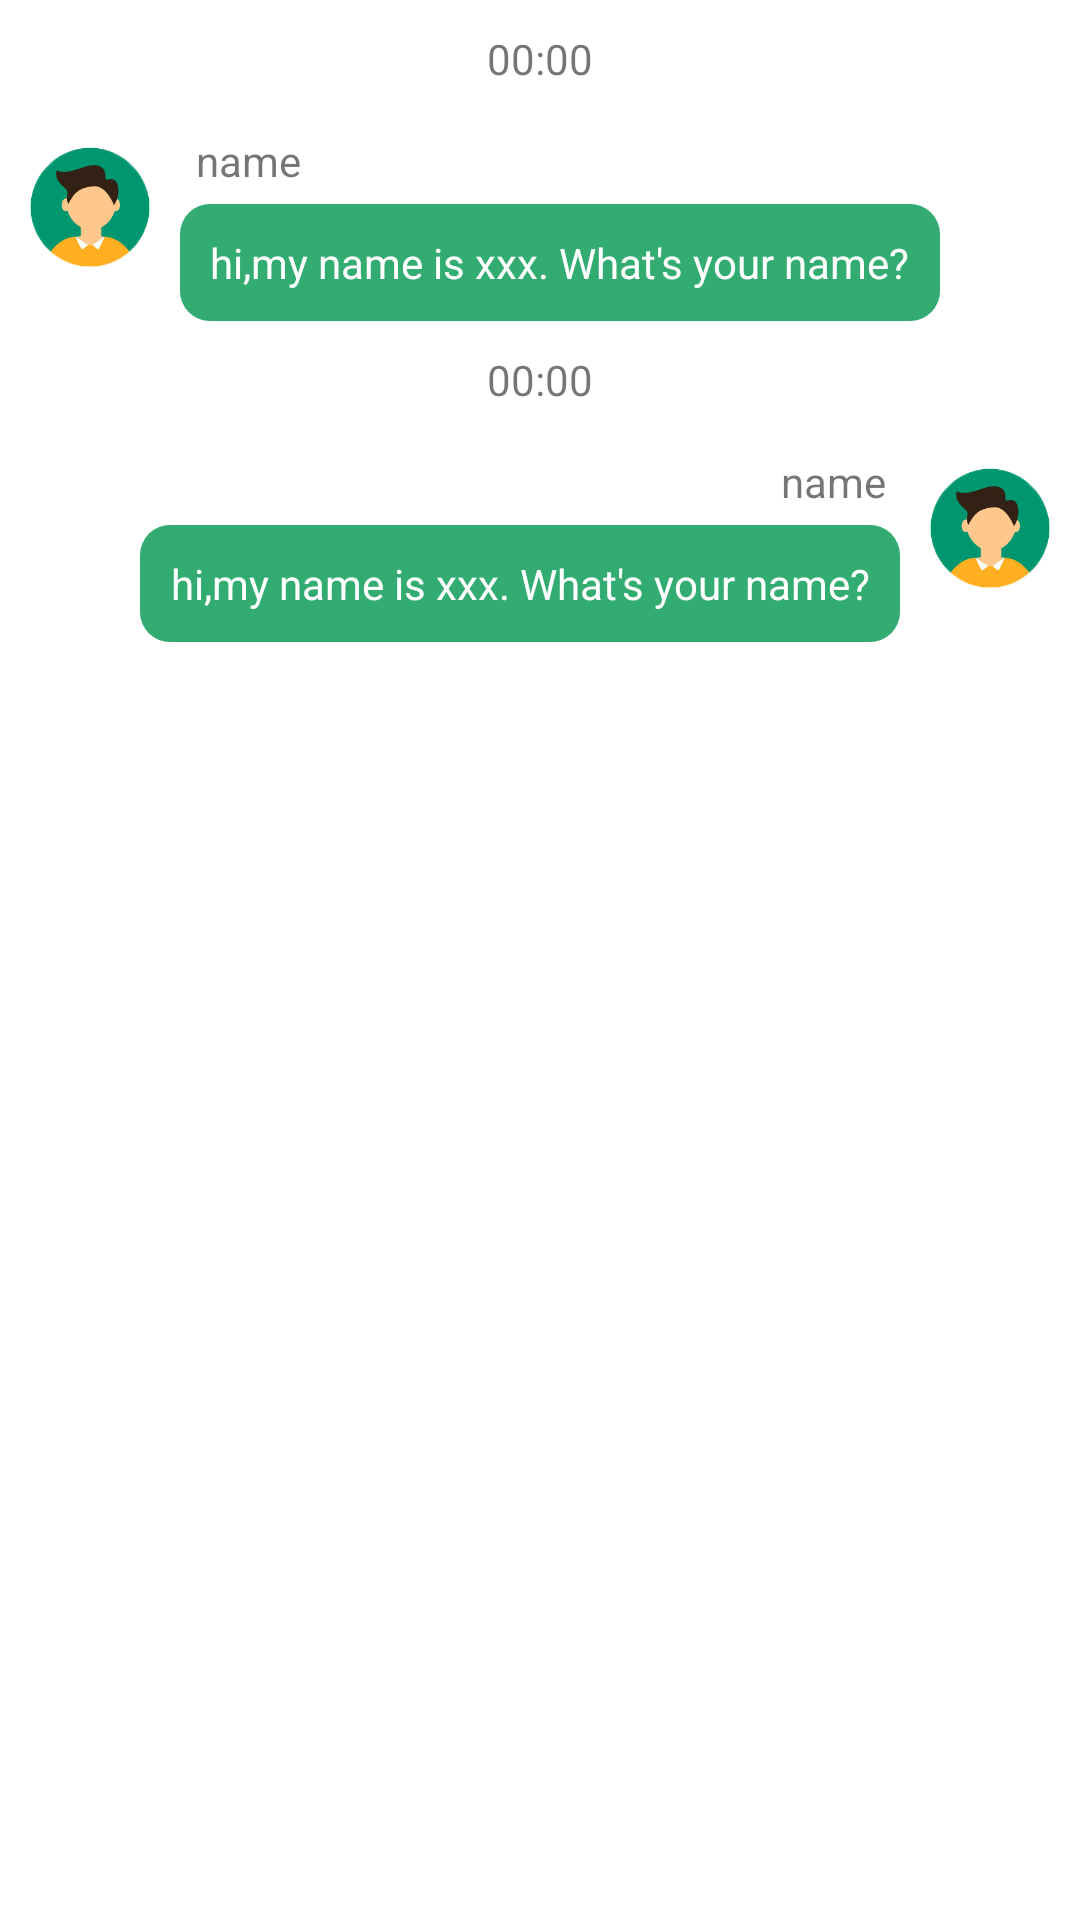

Named icons in this screenshot (1080x1920) and their centers, [x,y]:
your head: [90,207], [990,528]
